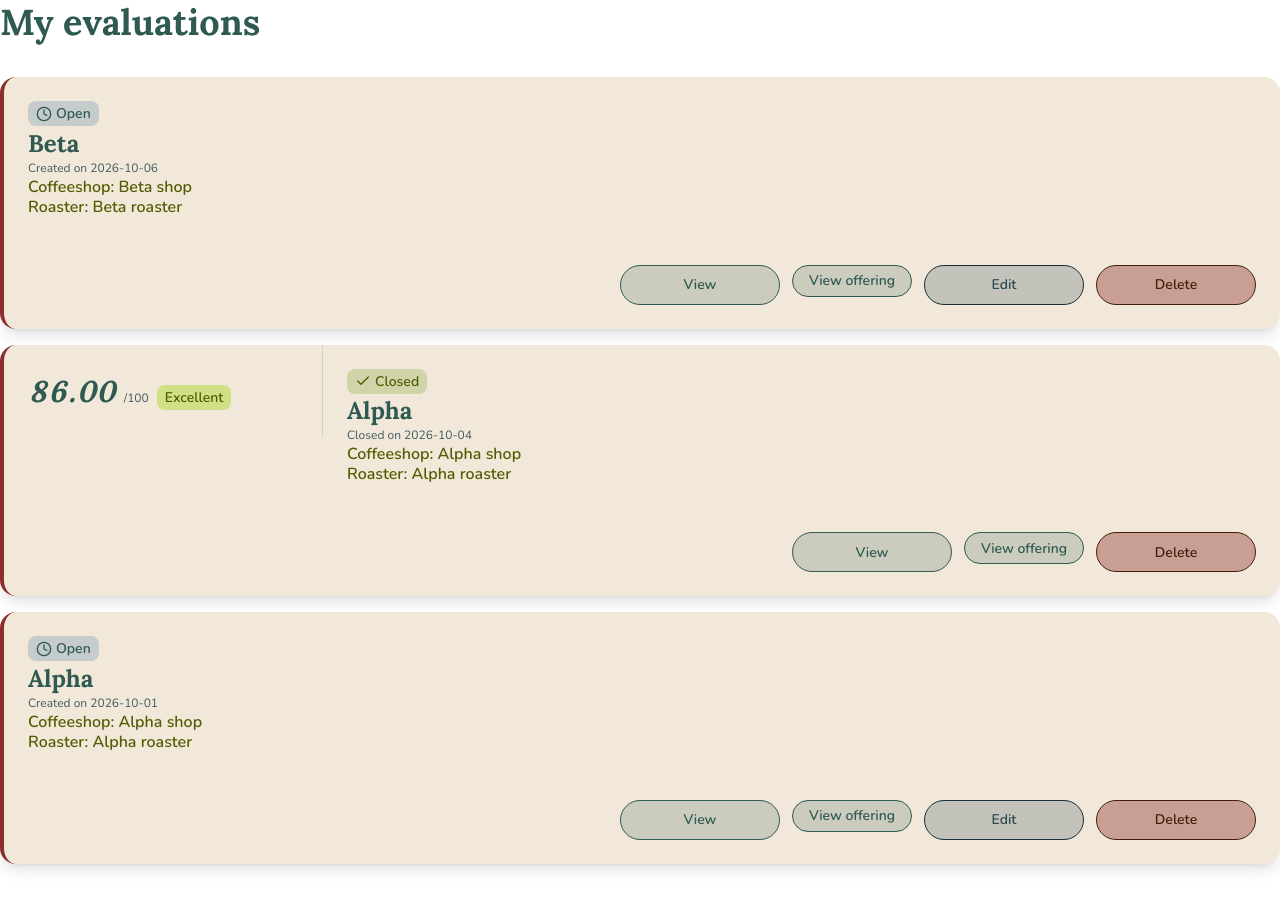
EvaluationsList (spec: My evaluations list) › removes a deleted row and reloads the list without the loading placeholder
Click the 1st button "Delete" at (1176, 284), box x1=1096 y1=264 x2=1256 y2=304
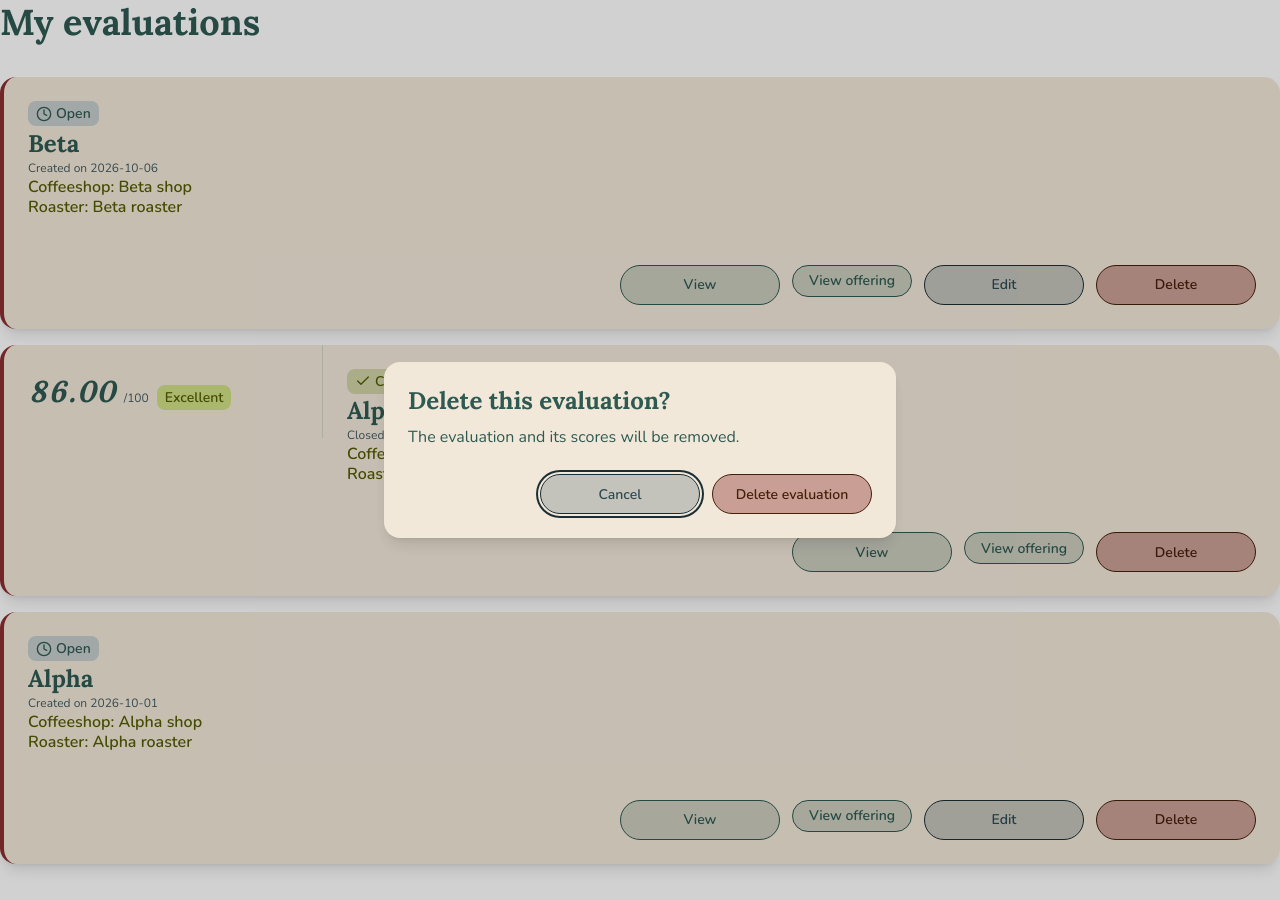
Click the button "Delete evaluation" at (792, 494), box x1=712 y1=474 x2=872 y2=514
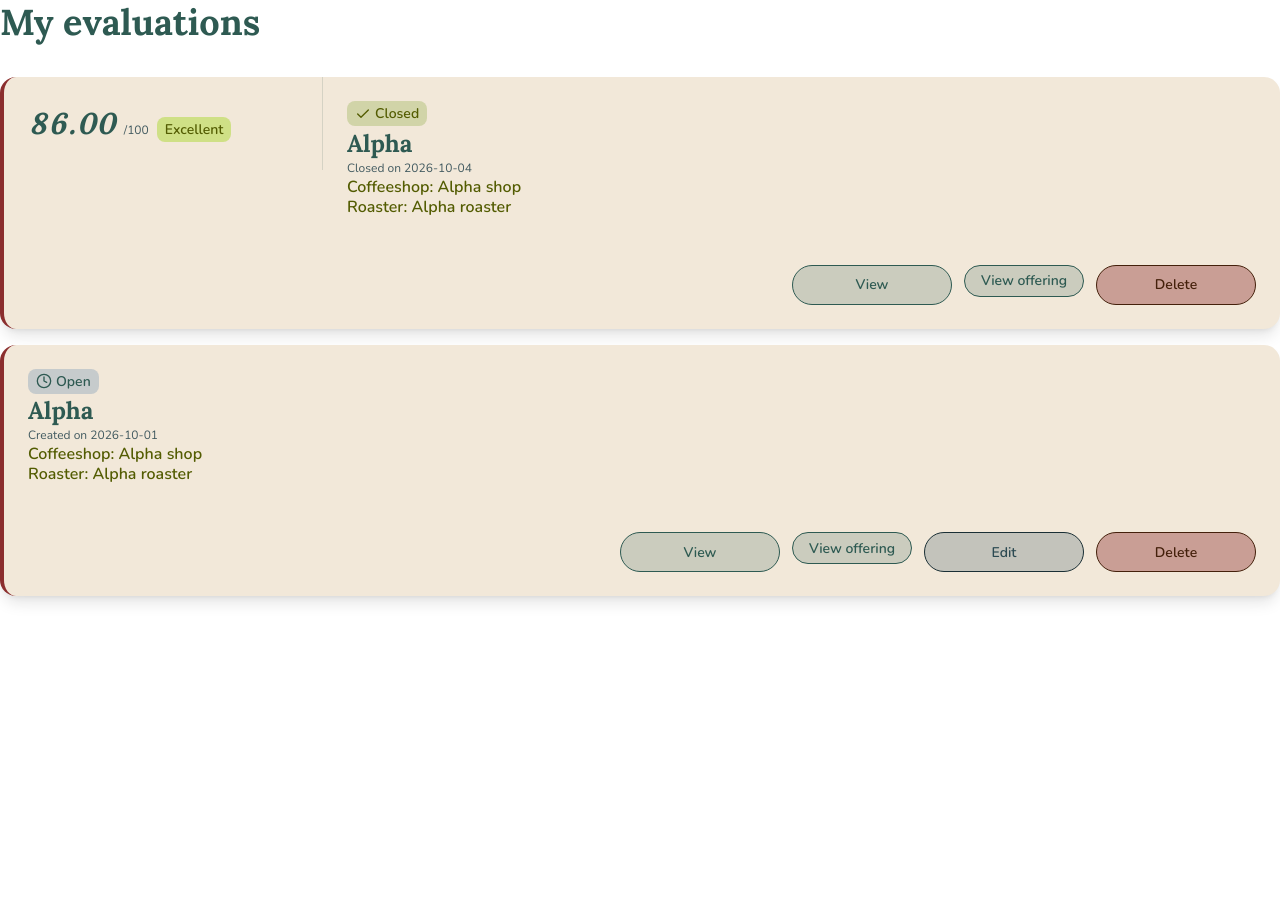
Result: the number of list items is 2 at x1=0 y1=77 x2=1279 y2=328; x1=0 y1=344 x2=1279 y2=596
Result: the headings read "Alpha", "Alpha", in this order at x1=347 y1=128 x2=412 y2=158; x1=28 y1=395 x2=93 y2=426
